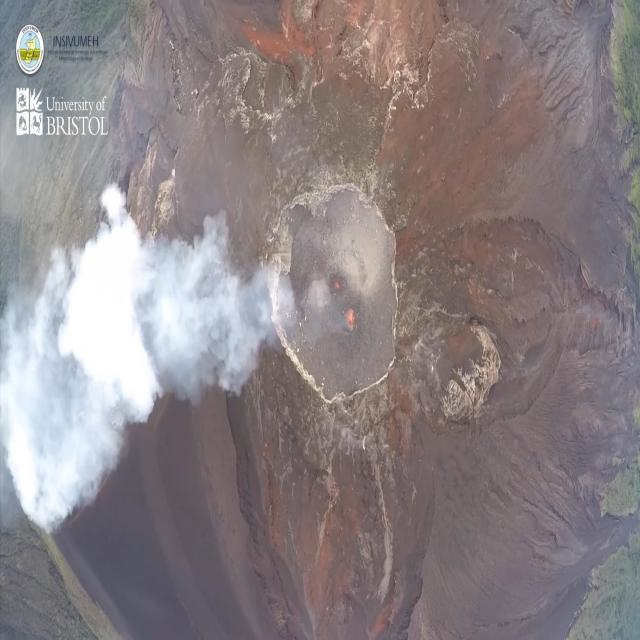Plume: (0, 176, 278, 525)
Summit: (260, 161, 414, 416)
